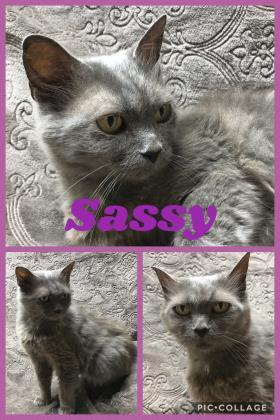rblue: (21, 15, 199, 197)
